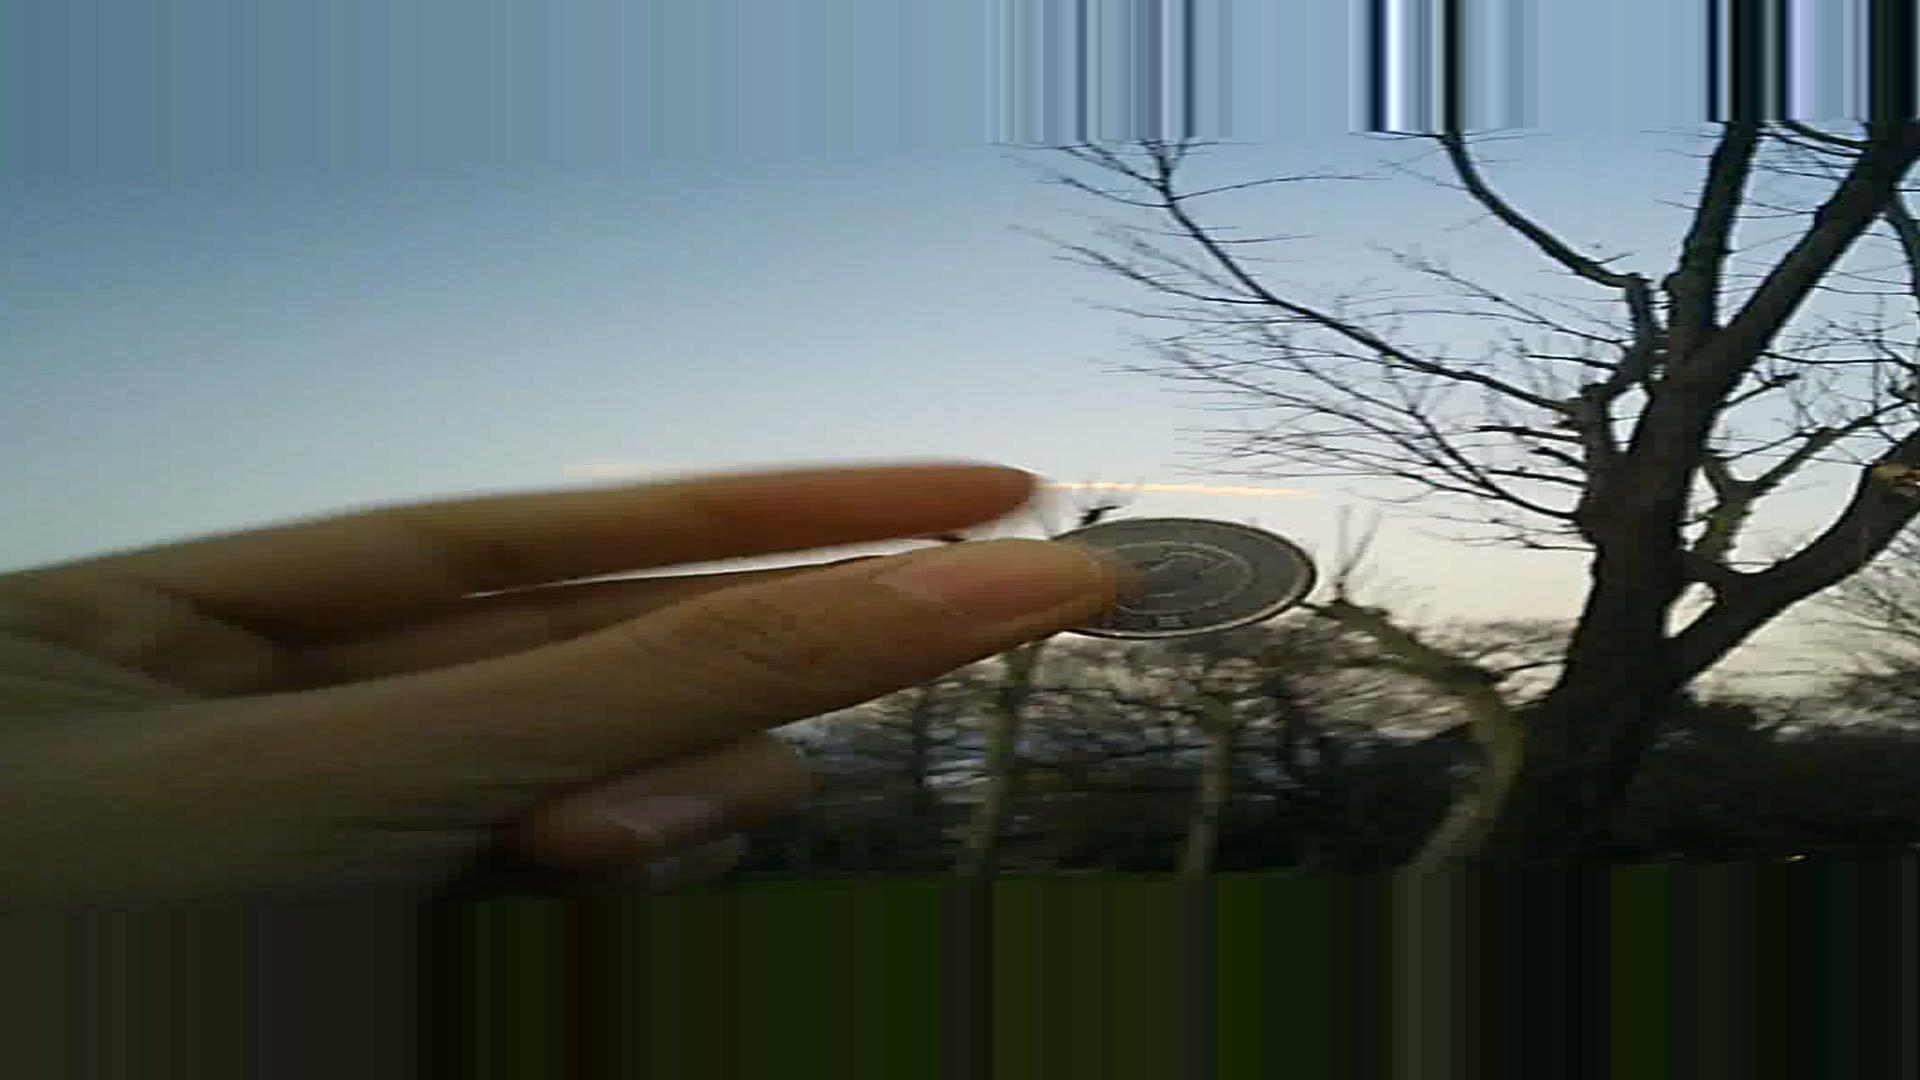1 Yen: (1029, 497, 1328, 655)
